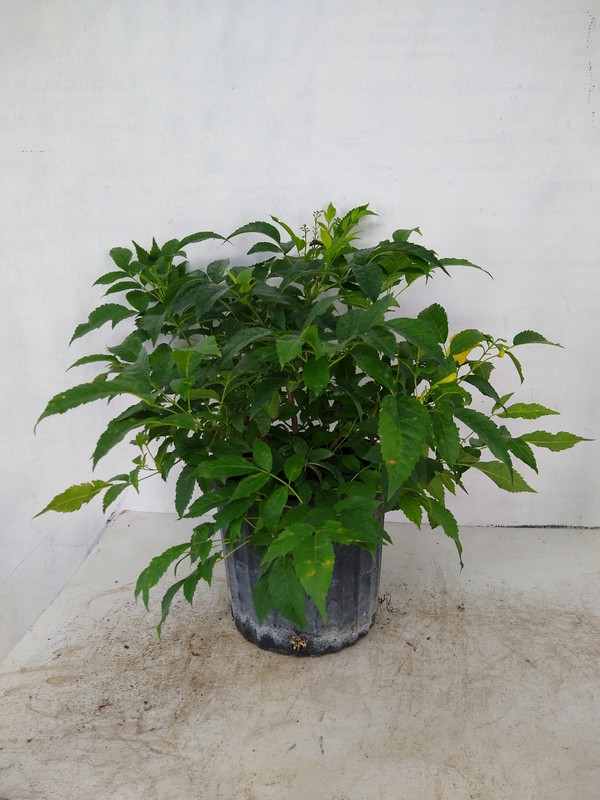plant: (31, 207, 598, 642)
pot: (214, 506, 385, 660)
